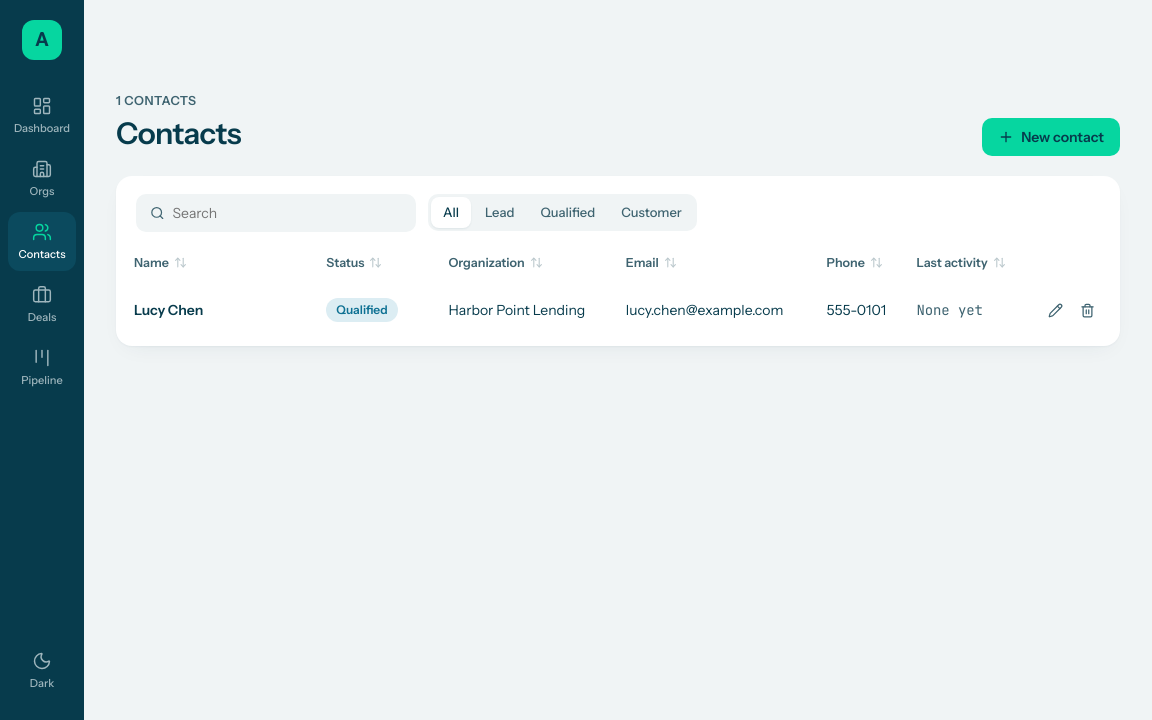
the contacts list › edits a contact from its row, starting from the saved details
Step 1. Click the button named "Edit Lucy Chen" → x=1055, y=310, box [1040,295,1070,325]
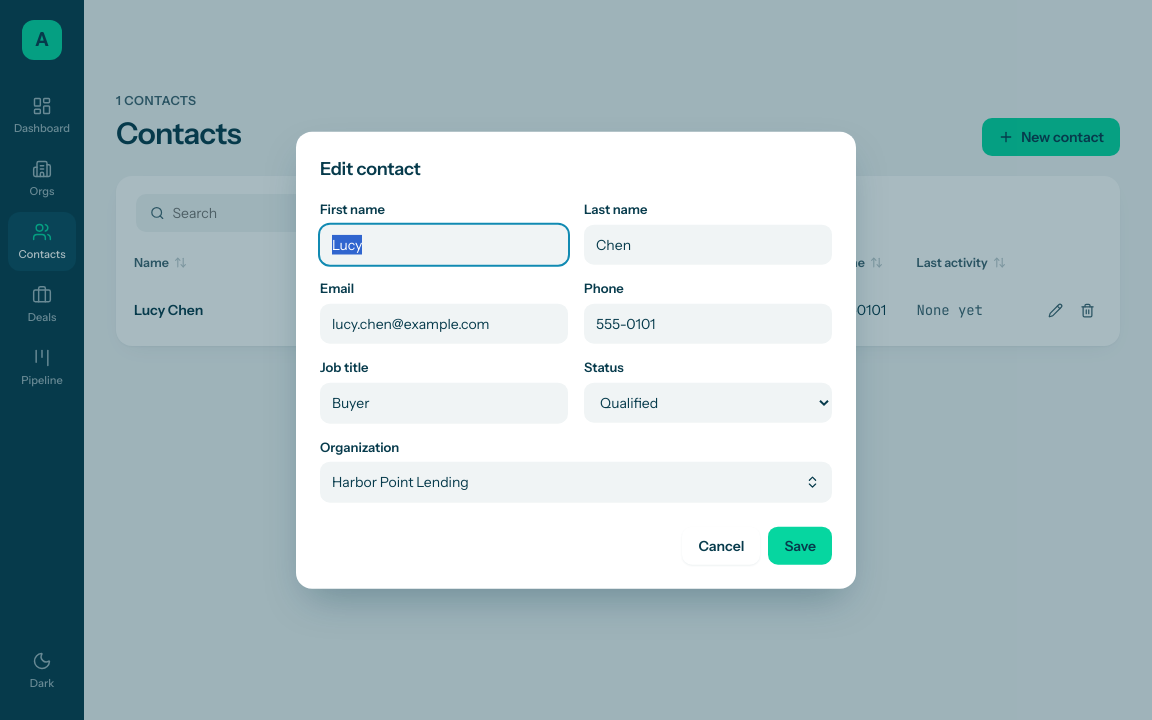
Now the field labelled "Email" holds "lucy.chen@example.com", box [320,304,568,344]
Now the button "Harbor Point Lending" is shown, box [320,462,832,502]
Step 2. Replace the text in the field labelled "Job title" with "Investor" → x=444, y=403, box [320,383,568,423]
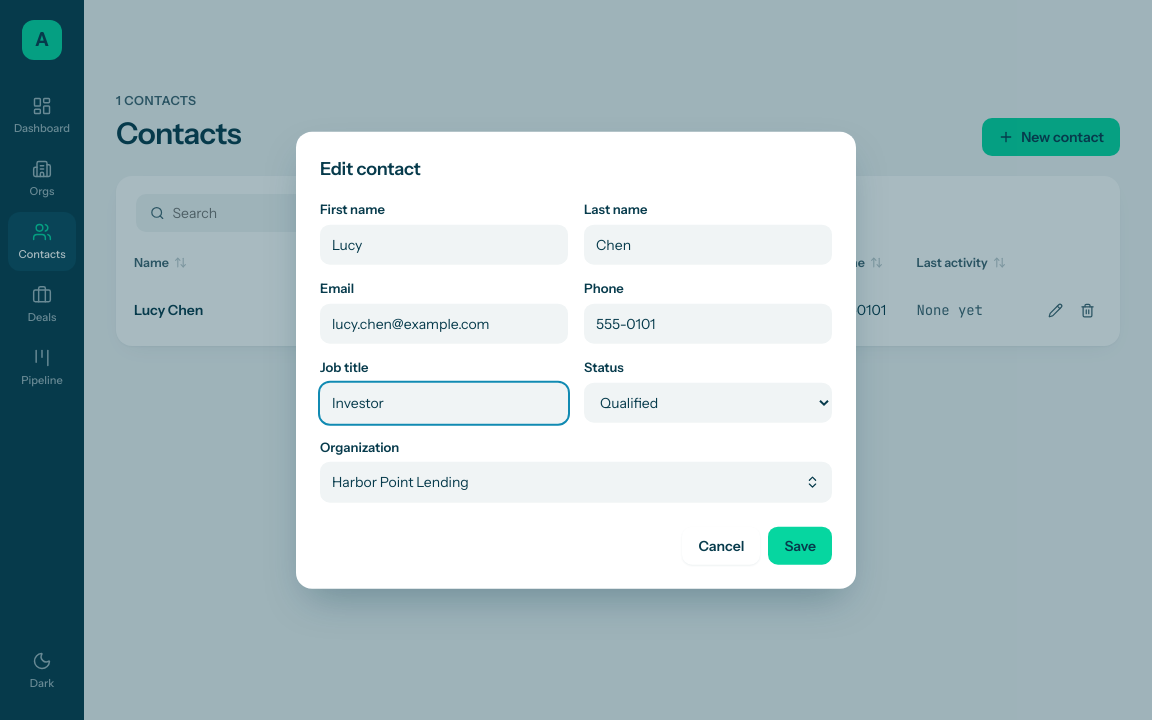
Step 3. Click the button "Save" → x=800, y=545, box [768,526,832,564]
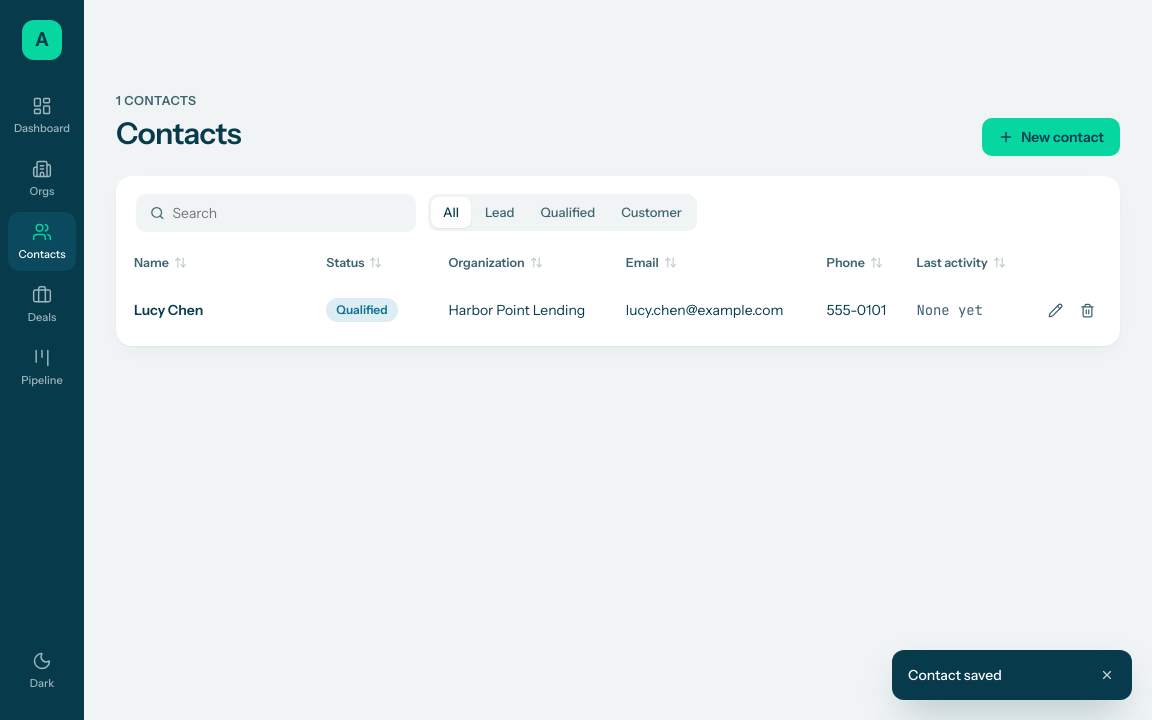
Now the dialog is gone
